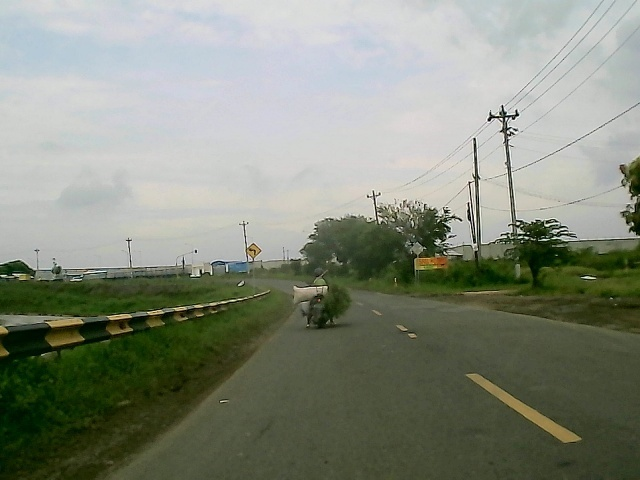Tikungan tajam ke kiri: (245, 241, 262, 262)
